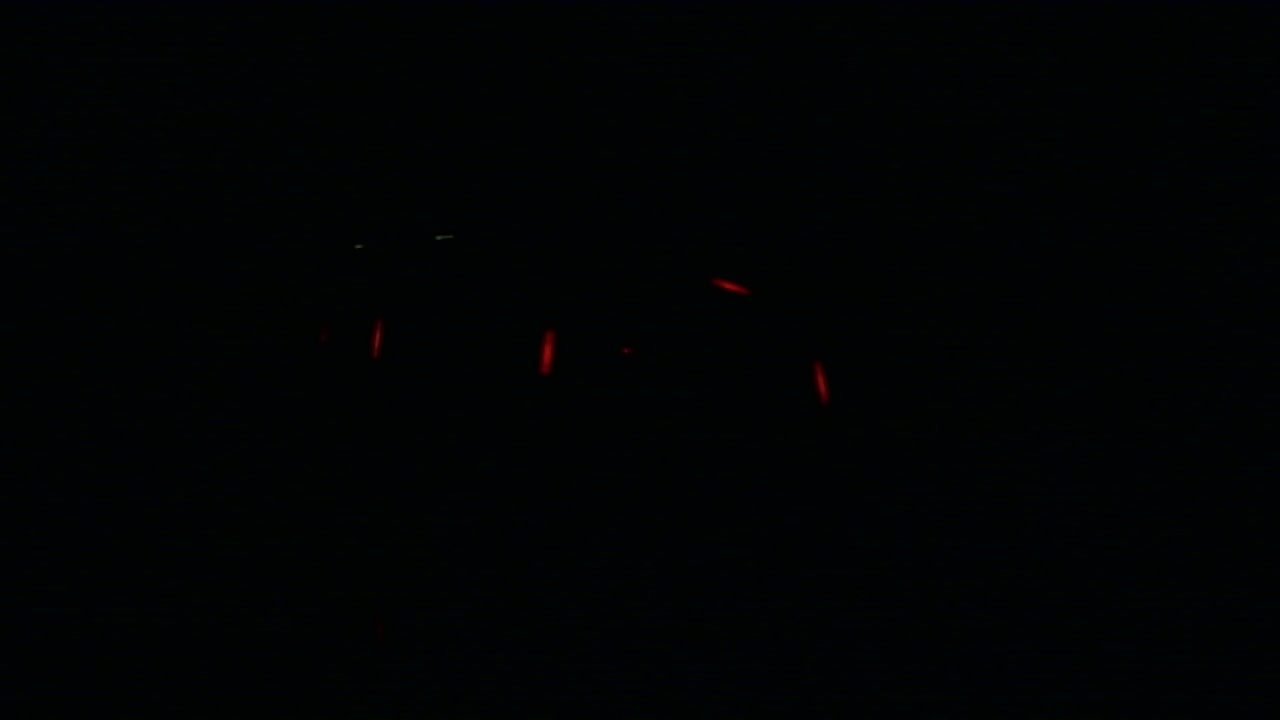lamp: (809, 326, 833, 408), (369, 315, 383, 375), (537, 329, 554, 373)
notpair2: (537, 329, 833, 407)
pair2: (370, 316, 555, 373)
